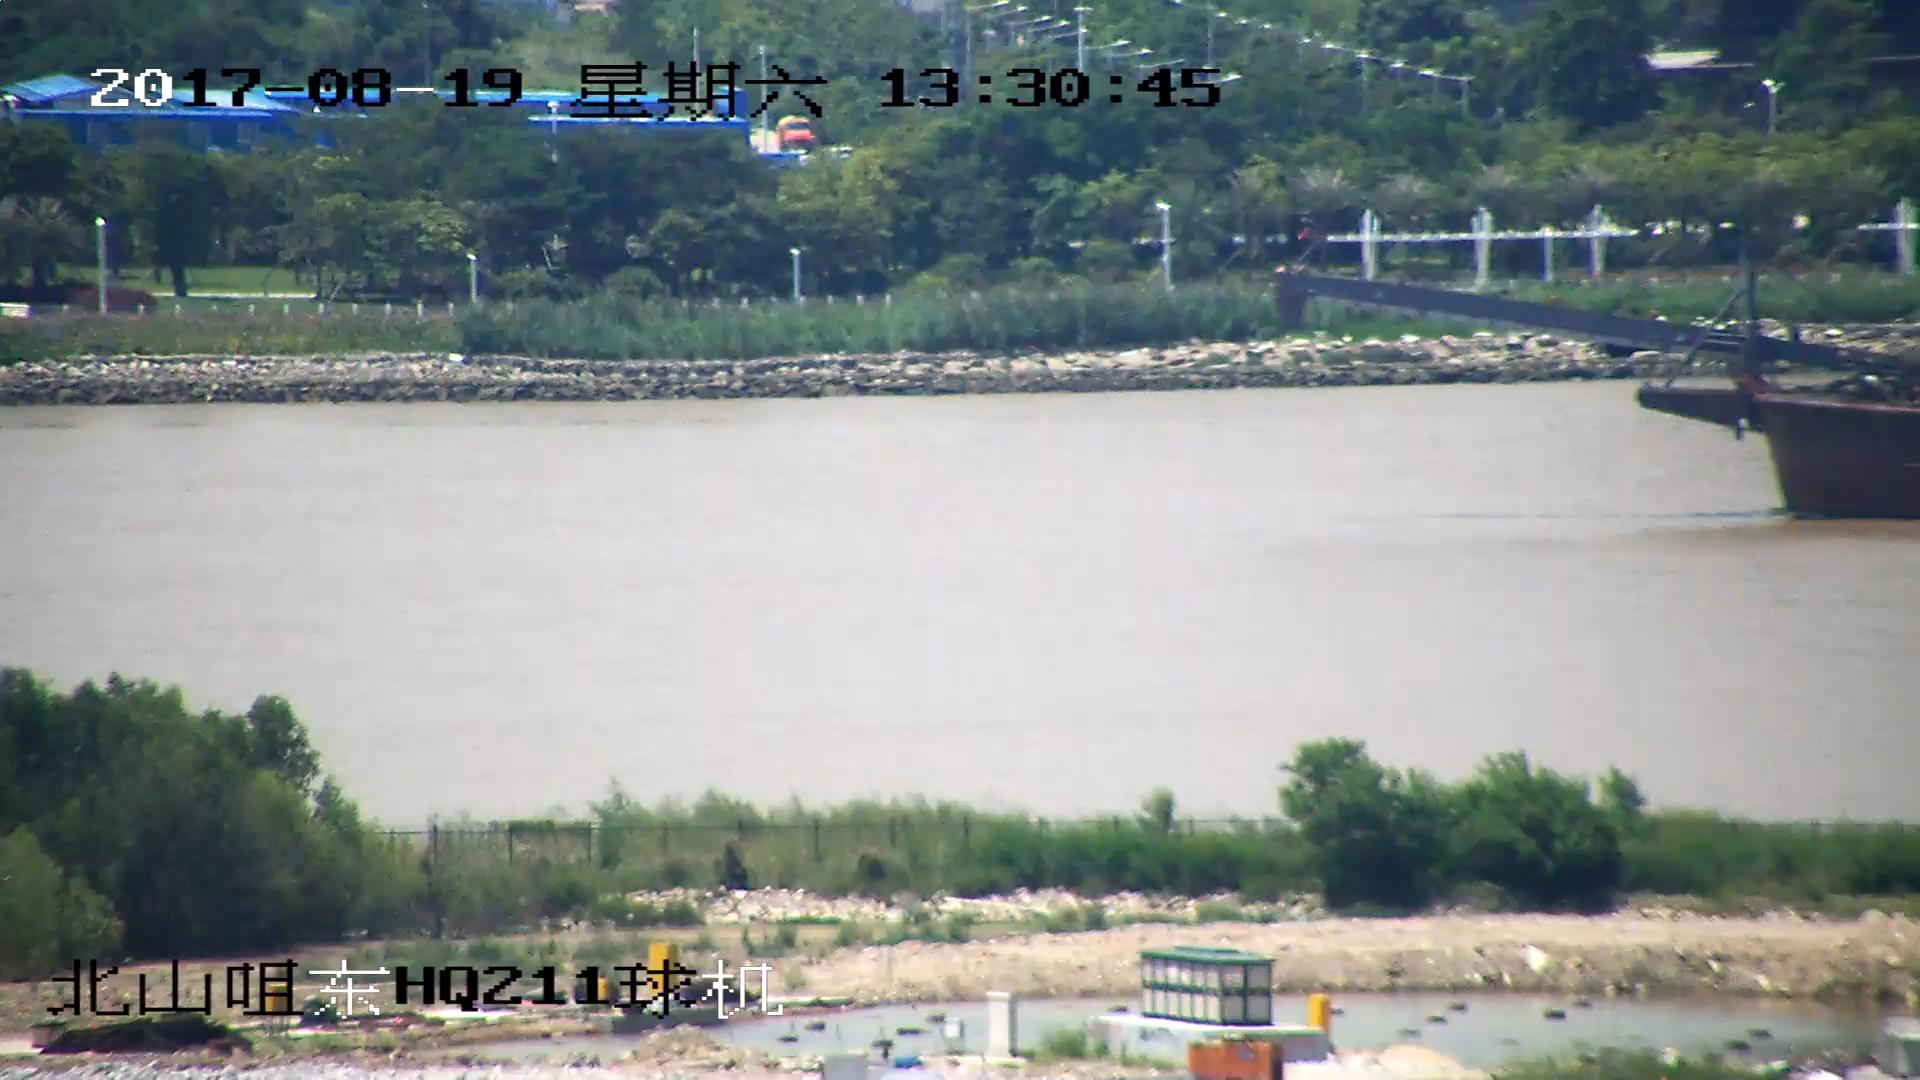bulk cargo carrier: (1282, 234, 1920, 523)
